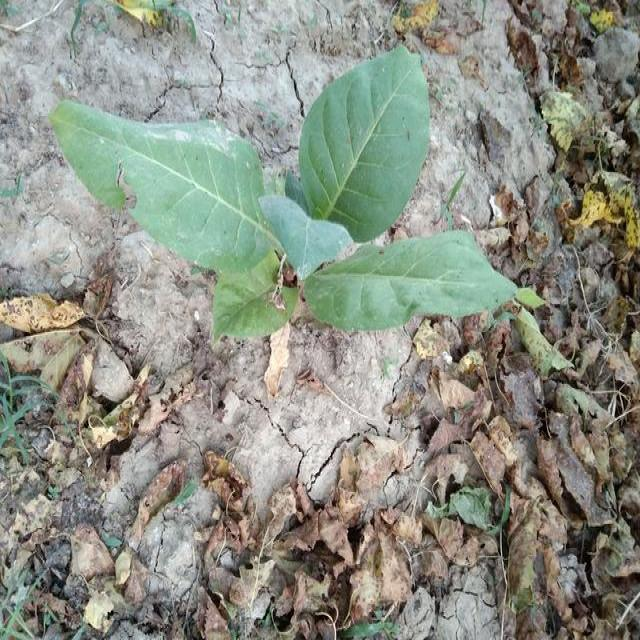crop: (49, 63, 511, 350)
